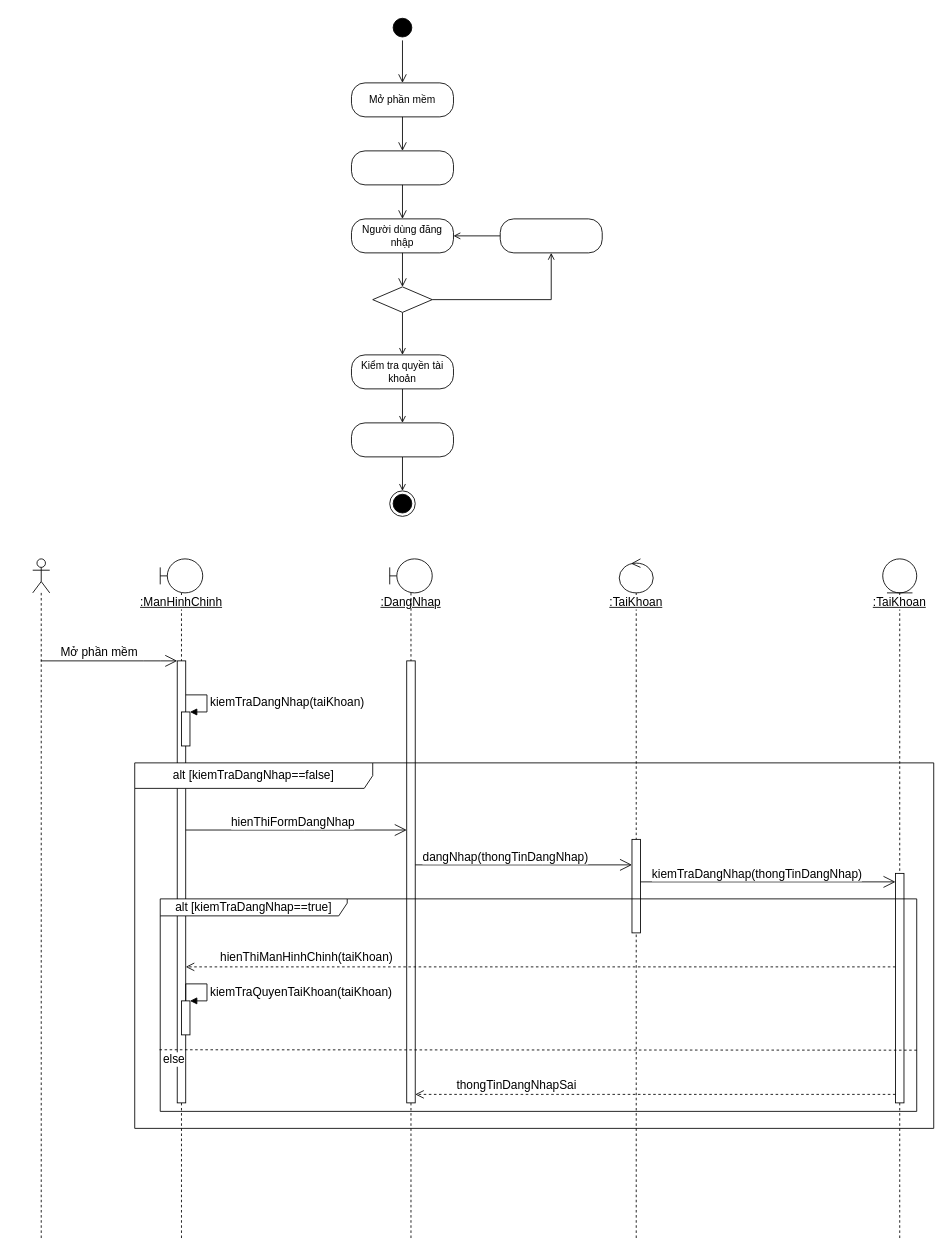
Some shapes in this 949 by 1254 pixel diagram are drawn without their labels. Here are the shapes that lost their labels. From the top down, the box of each, then its label:
(351, 150, 453, 185): Hiển thị form đăng nhập
(499, 218, 602, 253): Thông tin đăng nhập không đúng
(351, 422, 453, 457): Hiển thị màn hình chính
(32, 558, 50, 1239): :NguoiDung
